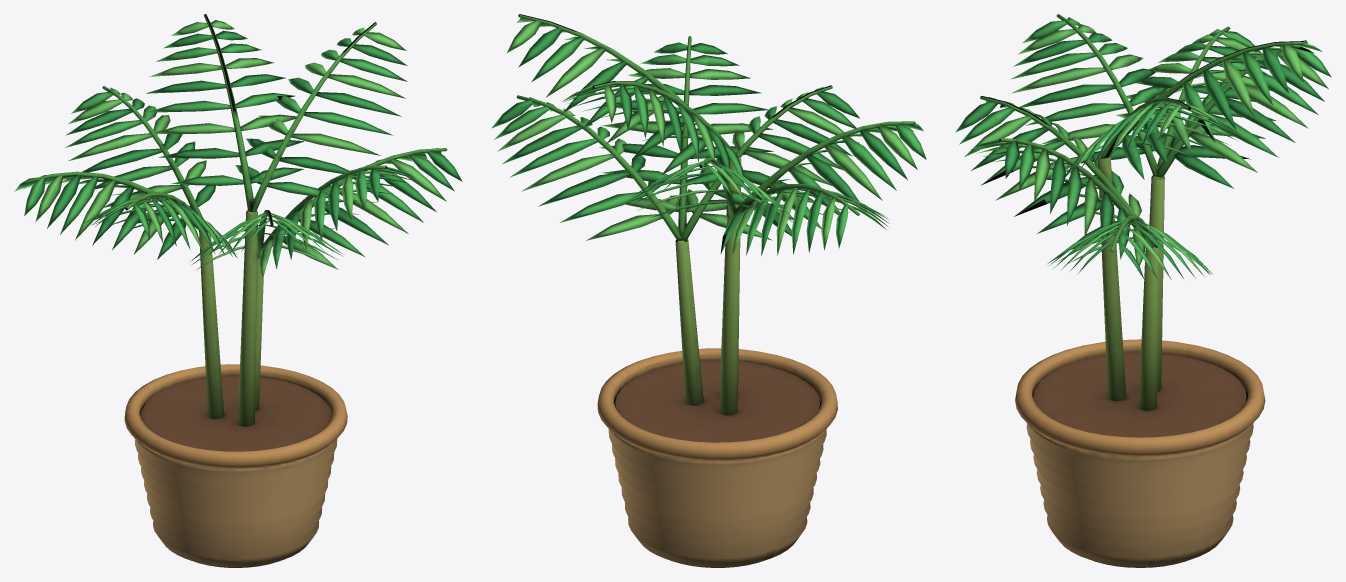
The model's file is palm_indoor.glb.
3 views of the same model, side by side, from view 1: azimuth 30°, elevation 25°; view 2: azimuth 150°, elevation 25°; view 3: azimuth 270°, elevation 25° (orthographic). The views are drawn at different scales.
Visible parts, largest first — view 1: palm_indoor; view 2: palm_indoor; view 3: palm_indoor.
Boxes of the visible parts, x1,y1,x2,y2 form: palm_indoor: [14, 14, 462, 567]; palm_indoor: [491, 14, 926, 567]; palm_indoor: [955, 14, 1331, 567].
Bounding box in the file's own units: 1.36 × 1.52 × 1.01.
8 materials, 8 textured.
